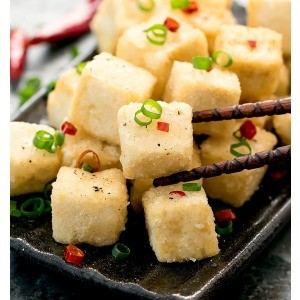tofu_brain food: (46, 22, 271, 248)
